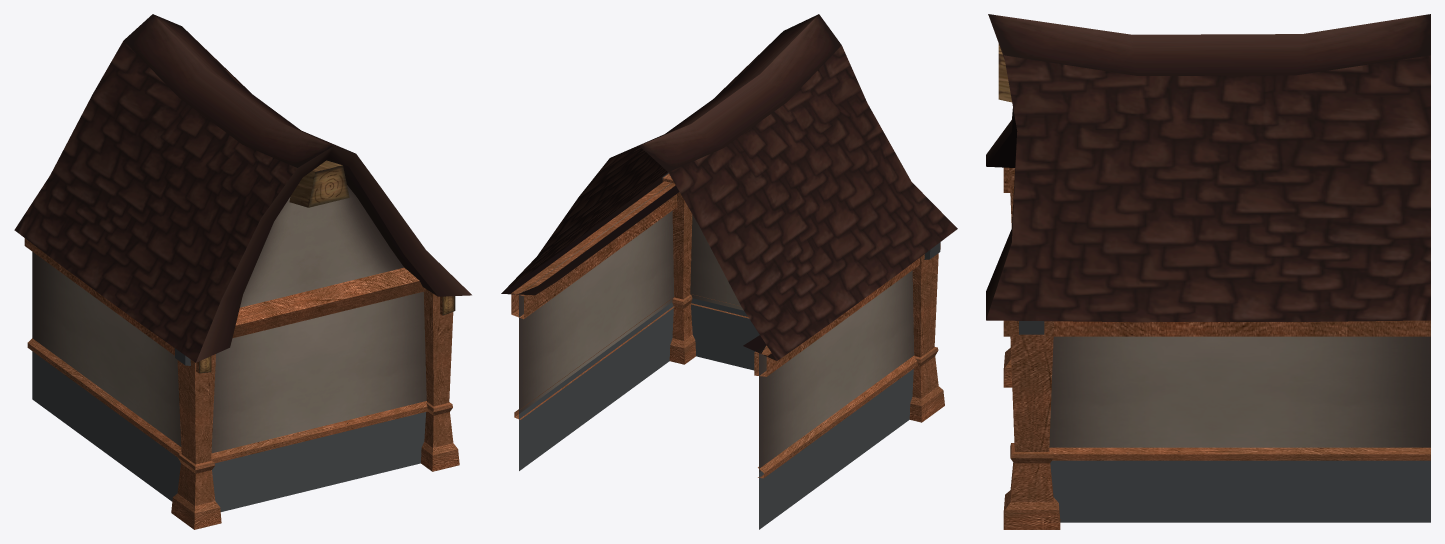
Rendered from fanasty_mod_extention_block01.fbx.
The picture shows the model from 3 angles, left to right: view 1: azimuth 30°, elevation 25°; view 2: azimuth 150°, elevation 25°; view 3: azimuth 270°, elevation 25°; orthographic projection. The views are drawn at different scales.
Visible parts, largest first — view 1: extention_block01; view 2: extention_block01; view 3: extention_block01.
Boxes of the visible parts, <box> form: extention_block01: <box>14,14,471,529</box>; extention_block01: <box>501,14,957,529</box>; extention_block01: <box>986,14,1430,529</box>.
Size of the model in its own units: 5.9 by 7.25 by 6.7.
